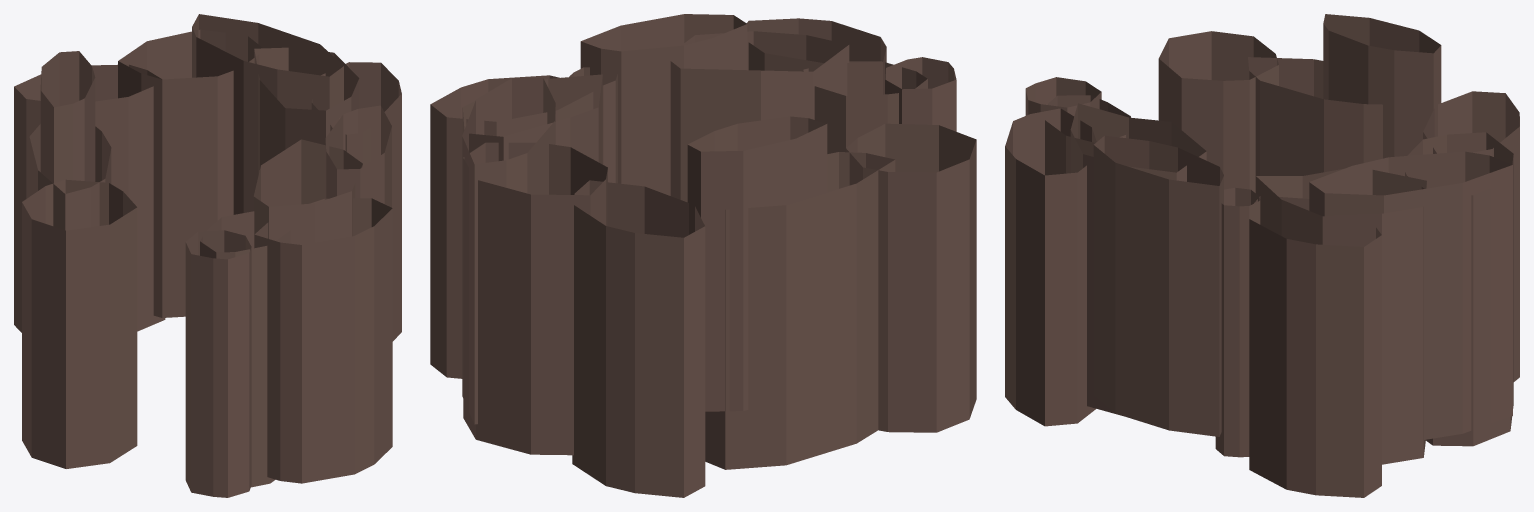
The picture shows the model from 3 angles, left to right: view 1: azimuth 30°, elevation 25°; view 2: azimuth 150°, elevation 25°; view 3: azimuth 270°, elevation 25°; orthographic projection. The views are drawn at different scales.
Parts seen in each view (by area): view 1: stone03.008; view 2: stone03.008; view 3: stone03.008.
Part boxes in pixels (left/top/right/bottom): stone03.008: left=14, top=14, right=401, bottom=497; stone03.008: left=430, top=14, right=976, bottom=497; stone03.008: left=1005, top=14, right=1519, bottom=497.
Size of the model in its own units: 7060 by 4783 by 7092.
